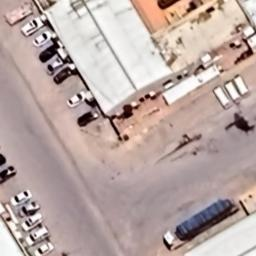SUV: (26, 226, 52, 248), (19, 17, 45, 38), (20, 212, 46, 232)
sedan: (36, 42, 60, 62), (76, 109, 100, 129), (8, 189, 34, 207), (51, 66, 73, 86), (0, 164, 18, 188), (67, 89, 87, 109), (17, 202, 42, 218), (46, 57, 66, 76), (33, 30, 53, 48), (33, 241, 56, 256), (0, 153, 7, 168)
truck: (161, 198, 239, 252)
van: (212, 84, 232, 111), (223, 79, 242, 105), (233, 74, 251, 99)
